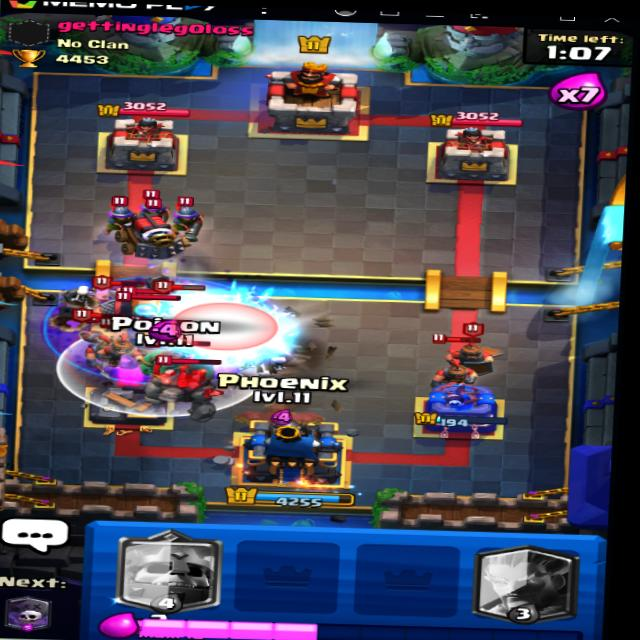goblin-giant: (126, 333, 225, 391)
golem: (138, 360, 232, 418)
musketeer: (165, 201, 211, 242), (135, 185, 175, 226), (100, 197, 143, 232)
royal-giant: (98, 285, 206, 331)
royal-recruits: (441, 335, 494, 375), (430, 346, 480, 387), (93, 334, 146, 372)
sparky: (121, 203, 198, 264)
